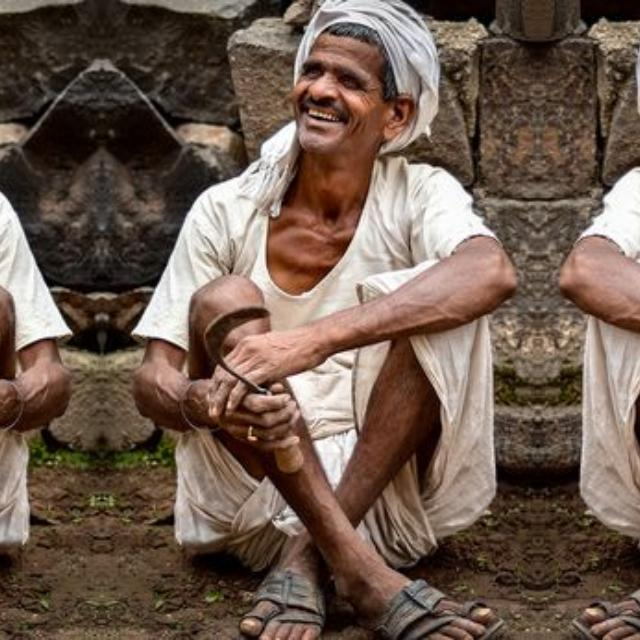person: (117, 0, 537, 640), (538, 0, 640, 640), (0, 0, 85, 640)
